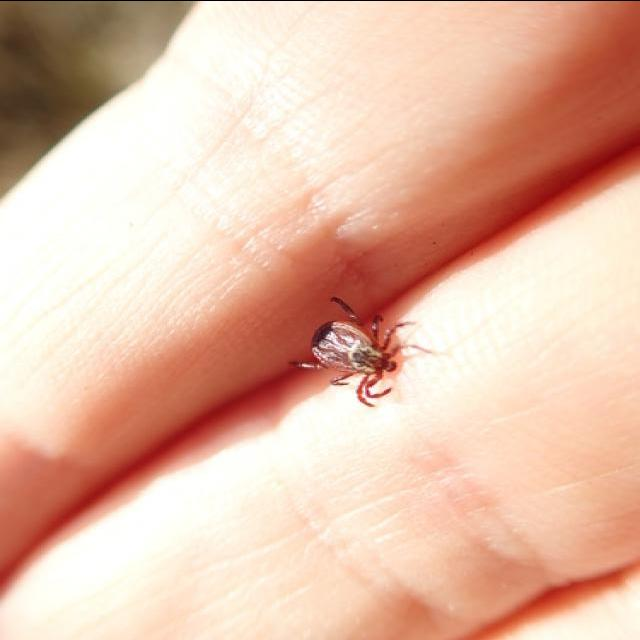Dermacentor Reticulatus-F: (288, 297, 416, 407)
